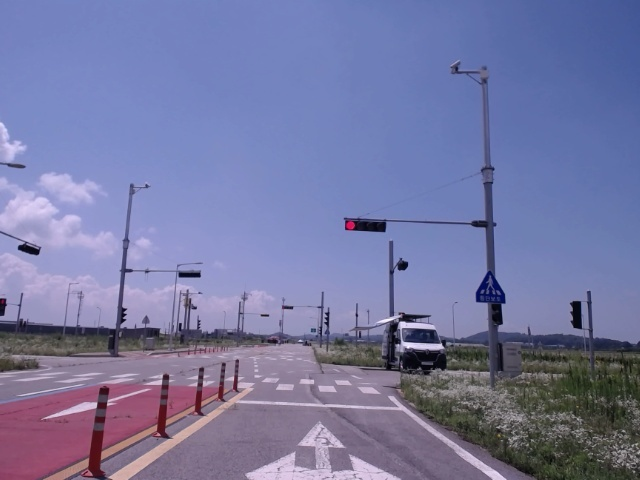red_4: (345, 221, 385, 232)
